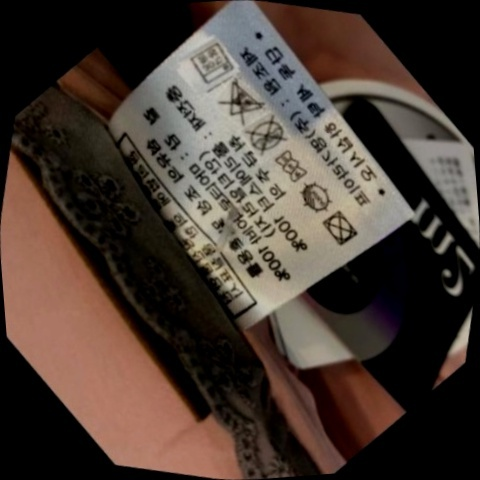30C: (176, 32, 245, 96)
DN_dry_clean: (231, 107, 297, 165)
DN_tumble_dry: (313, 202, 364, 253)
dry_flat_in_shade: (286, 167, 345, 222)
non_chlorine_bleach: (207, 72, 273, 133)
wring: (260, 139, 318, 196)
